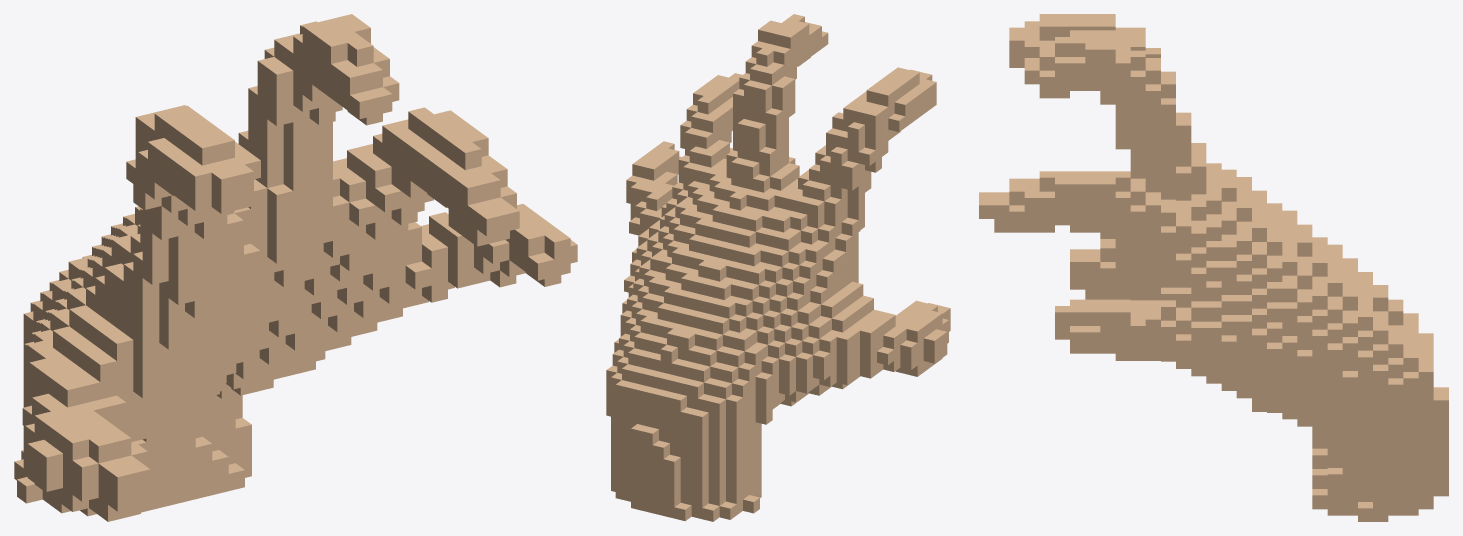
Rendered from maonova.glb.
3 renders of one model, left to right at view 1: azimuth 30°, elevation 25°; view 2: azimuth 150°, elevation 25°; view 3: azimuth 270°, elevation 25°, orthographic. The views are drawn at different scales.
Parts seen in each view (by area): view 1: hand.868, hand.1940, hand.876, hand.1084, hand.1953; view 2: no part large enough to name; view 3: no part large enough to name.
Part boxes in pixels (x1,y1,x2,y2): hand.868: (185,165,211,193); hand.1940: (349,198,375,226); hand.876: (211,168,237,196); hand.1084: (267,63,293,91); hand.1953: (375,184,401,212).
Size of the model in its own units: 18 by 19.8 by 18.6.
